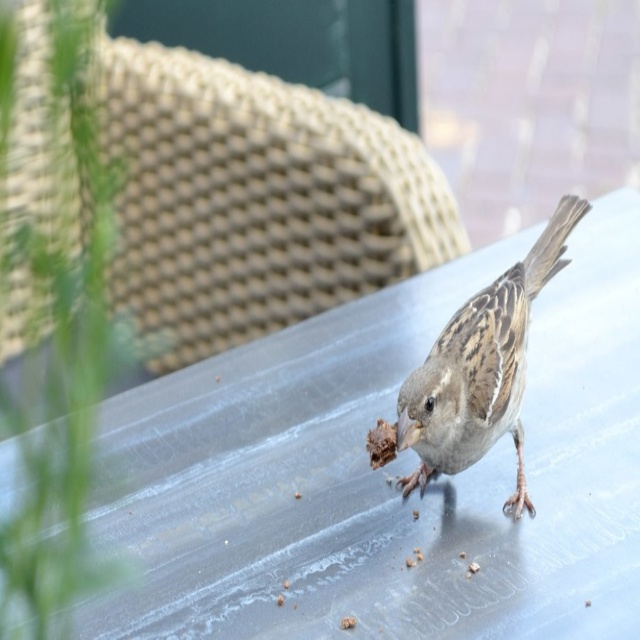Sparrow: (397, 193, 592, 517)
